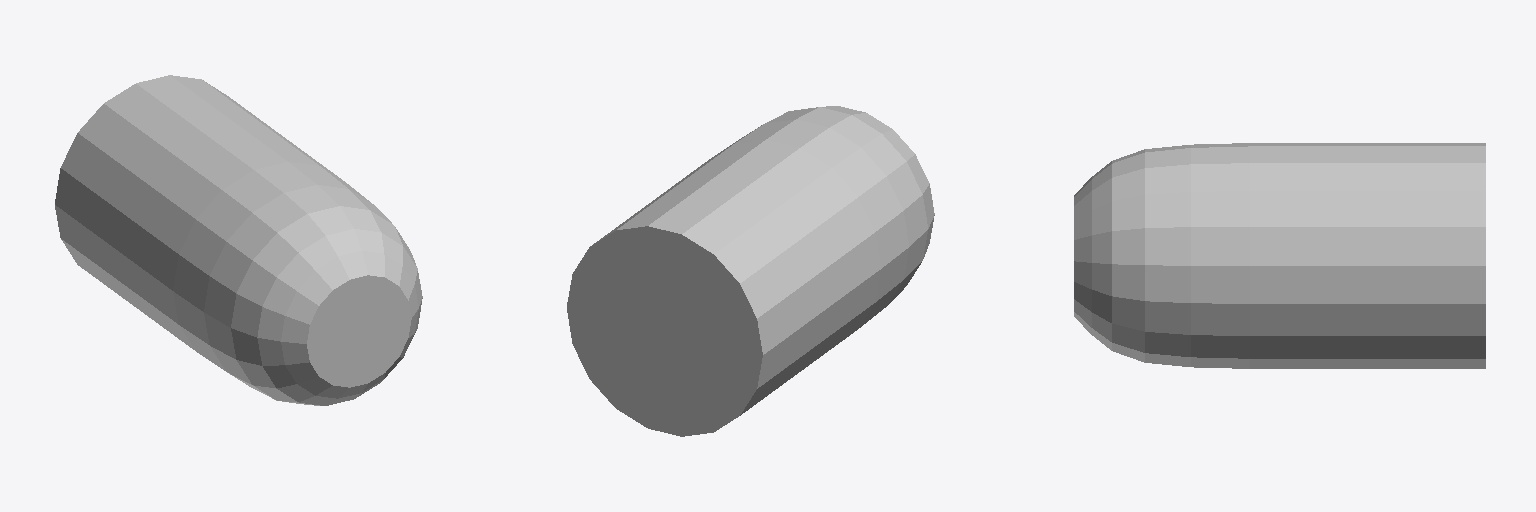
The model's file is Bala Corregida.obj.
3 views of the same model, side by side, from view 1: azimuth 30°, elevation 25°; view 2: azimuth 150°, elevation 25°; view 3: azimuth 270°, elevation 25° (orthographic).
Parts seen in each view (by area): view 1: Bala_Low_Poly; view 2: Bala_Low_Poly; view 3: Bala_Low_Poly.
Boxes of the visible parts, box(x1,y1,x2,y2) form: Bala_Low_Poly: box(55, 75, 422, 405); Bala_Low_Poly: box(567, 106, 934, 436); Bala_Low_Poly: box(1074, 143, 1485, 368).
Bounding box in the file's own units: 30.84 × 30.37 × 56.13.